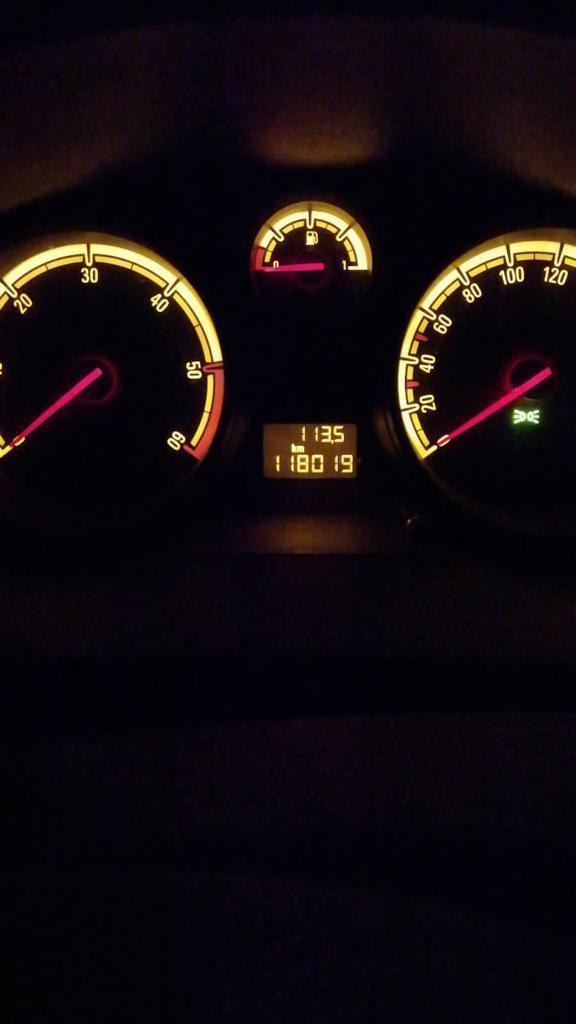,: (330, 439, 334, 445)
0: (311, 453, 323, 473)
1: (274, 452, 280, 473), (333, 454, 339, 473), (289, 454, 295, 473), (300, 425, 306, 442), (313, 425, 318, 443)
3: (320, 425, 331, 442)
5: (333, 425, 345, 443)
8: (296, 453, 309, 474)
9: (340, 454, 353, 473)
X: (290, 442, 296, 453), (296, 445, 305, 452)
odometer: (260, 421, 359, 480)
